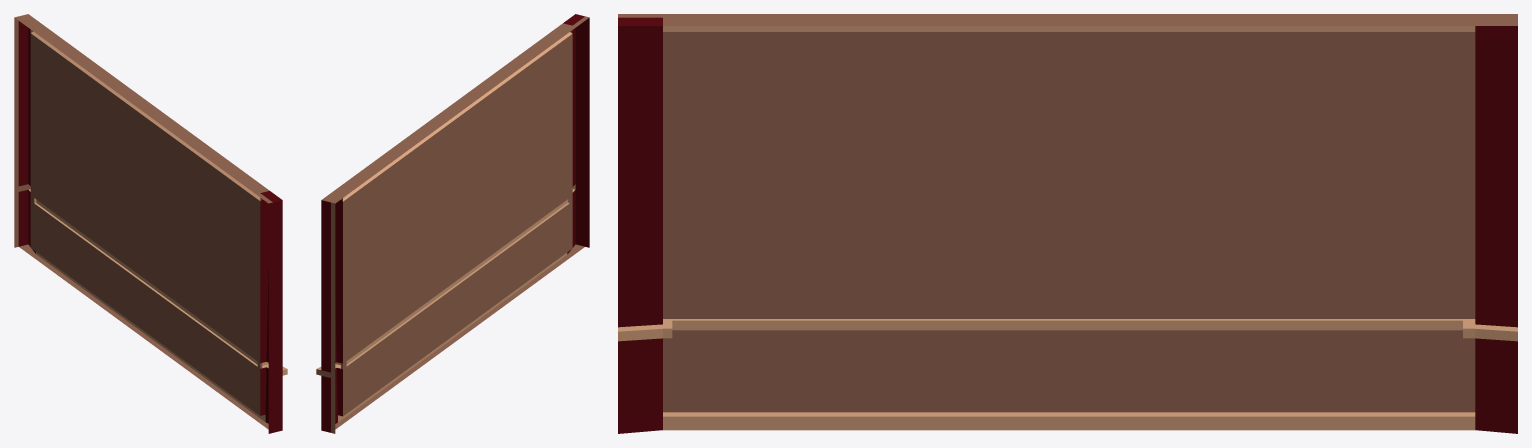
The model's file is Modular_Wall_1.fbx.
3 views of the same model, side by side, from view 1: azimuth 30°, elevation 25°; view 2: azimuth 150°, elevation 25°; view 3: azimuth 270°, elevation 25° (orthographic). The views are drawn at different scales.
Visible parts, largest first — view 1: Modular_Wall_1; view 2: Modular_Wall_1; view 3: Modular_Wall_1.
Part boxes in pixels (bbox=[...]): Modular_Wall_1: bbox=[14, 14, 287, 433]; Modular_Wall_1: bbox=[316, 14, 589, 433]; Modular_Wall_1: bbox=[618, 14, 1517, 433].
Bounding box in the file's own units: 86.92 × 1000 × 2000.
